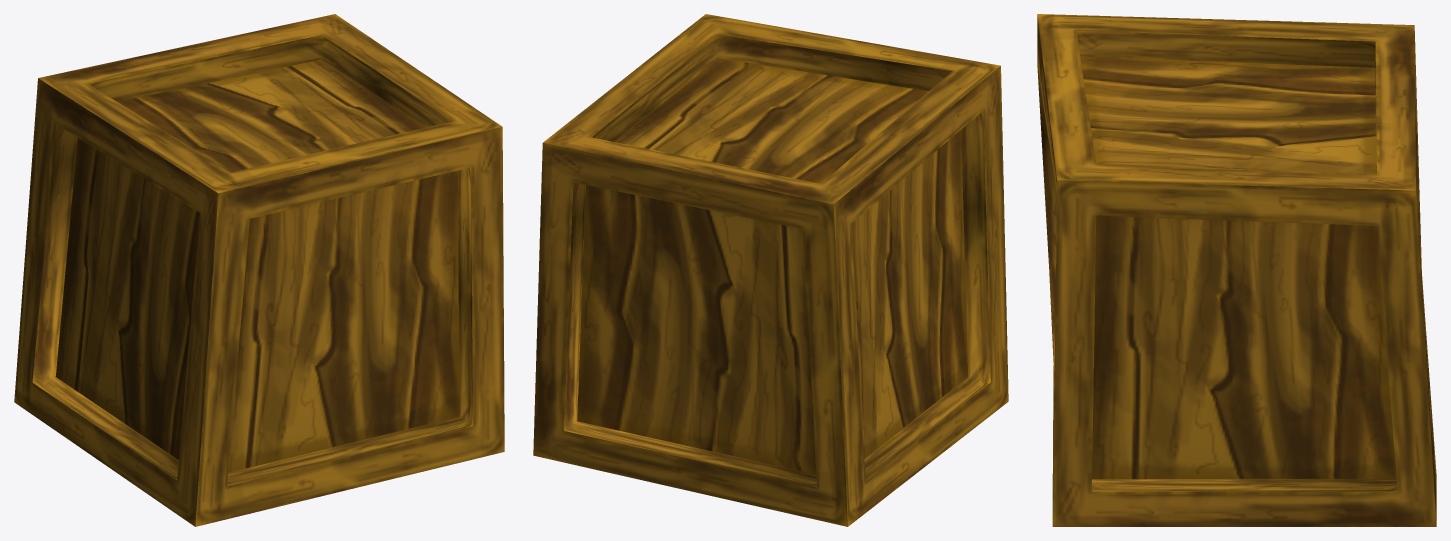
Rendered from V_Caja_Claro1.fbx.
The picture shows the model from 3 angles, left to right: view 1: azimuth 30°, elevation 25°; view 2: azimuth 150°, elevation 25°; view 3: azimuth 270°, elevation 25°; orthographic projection. The views are drawn at different scales.
Parts seen in each view (by area): view 1: V_Caja_Claro1; view 2: V_Caja_Claro1; view 3: V_Caja_Claro1.
Part boxes in pixels (bbox=[...]): V_Caja_Claro1: bbox=[14, 14, 504, 526]; V_Caja_Claro1: bbox=[533, 14, 1008, 526]; V_Caja_Claro1: bbox=[1037, 14, 1436, 526].
Bounding box in the file's own units: 66.05 × 66.76 × 67.2.
